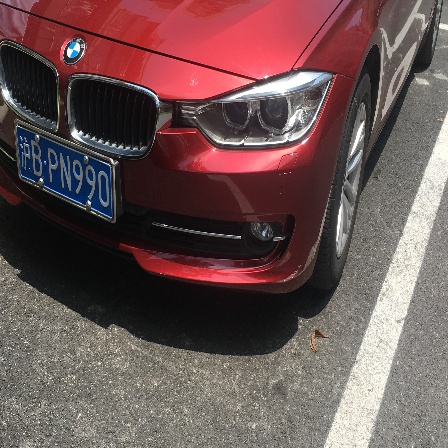plate: (14, 124, 118, 220)
